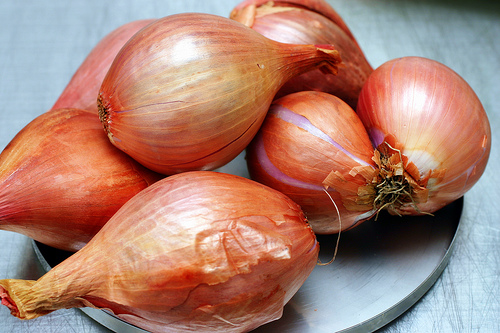onion: (1, 174, 318, 332), (96, 12, 340, 173), (243, 88, 392, 236), (356, 56, 490, 220), (228, 0, 374, 105)
